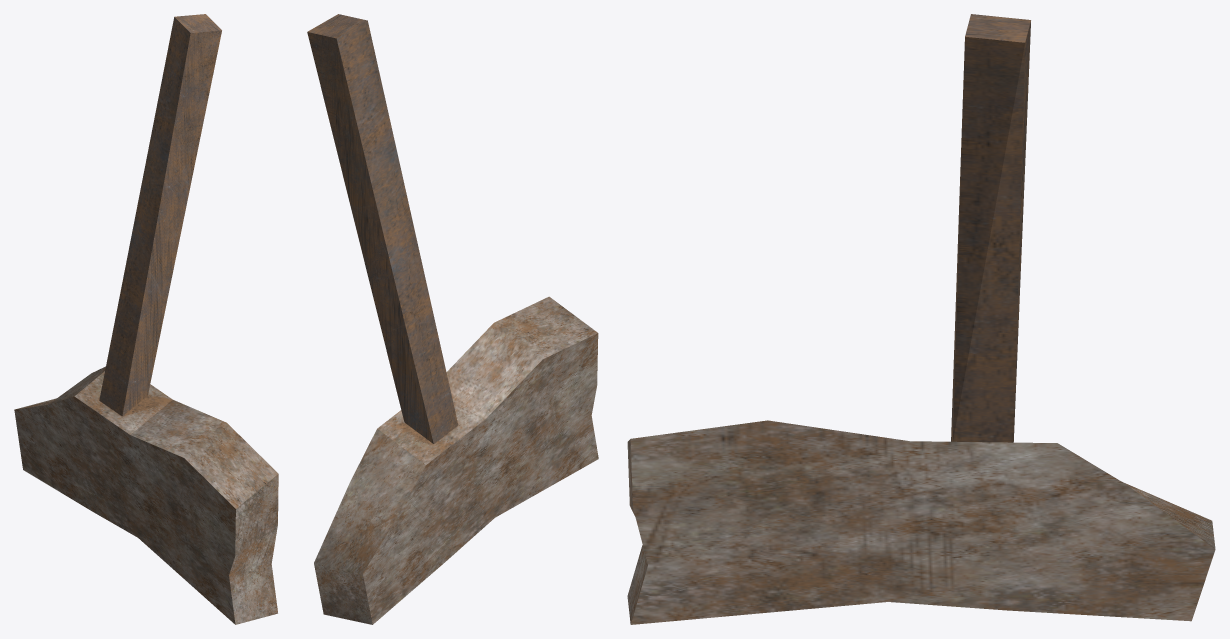
File: ApoyoEdificio2.obj
3 renders of one model, left to right at view 1: azimuth 30°, elevation 25°; view 2: azimuth 150°, elevation 25°; view 3: azimuth 270°, elevation 25°, orthographic. The views are drawn at different scales.
Parts seen in each view (by area): view 1: Box134; view 2: Box134; view 3: Box134.
Part boxes in pixels (x1,y1,x2,y2): Box134: (14,14,278,624); Box134: (307,14,598,624); Box134: (627,14,1215,624).
Size of the model in its own units: 18.94 by 71.07 by 59.46.
1 material, 1 textured.
